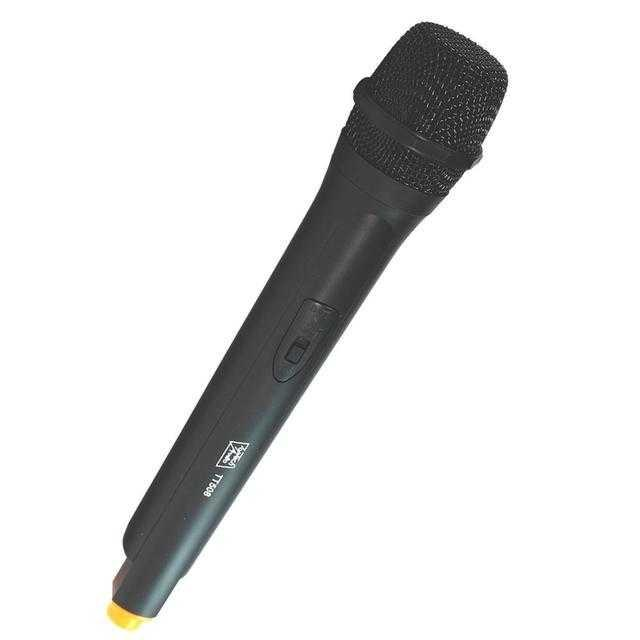microphone: (111, 23, 501, 628)
